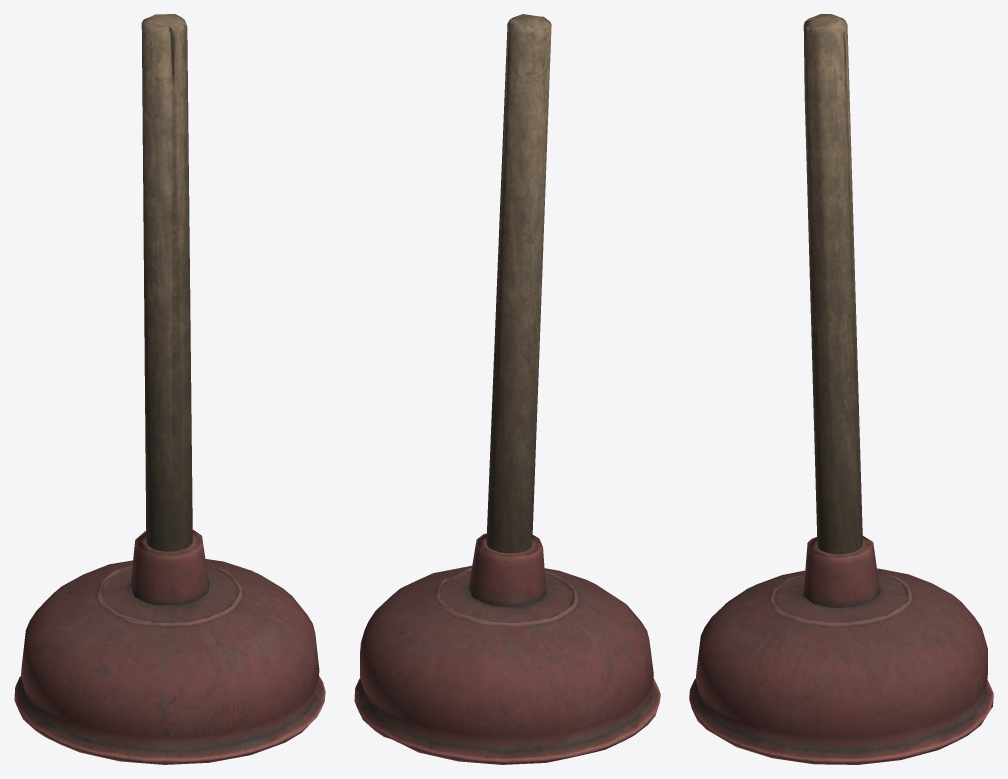
File: plunger.glb
3 renders of one model, left to right at view 1: azimuth 30°, elevation 25°; view 2: azimuth 150°, elevation 25°; view 3: azimuth 270°, elevation 25°, orthographic. The views are drawn at different scales.
Visible parts, largest first — view 1: plunger; view 2: plunger; view 3: plunger.
Part boxes in pixels (left/top/right/bottom): plunger: left=14, top=14, right=325, bottom=764; plunger: left=354, top=14, right=660, bottom=764; plunger: left=689, top=14, right=993, bottom=764.
Bounding box in the file's own units: 0.172 × 0.421 × 0.172.
1 material, 1 textured.
